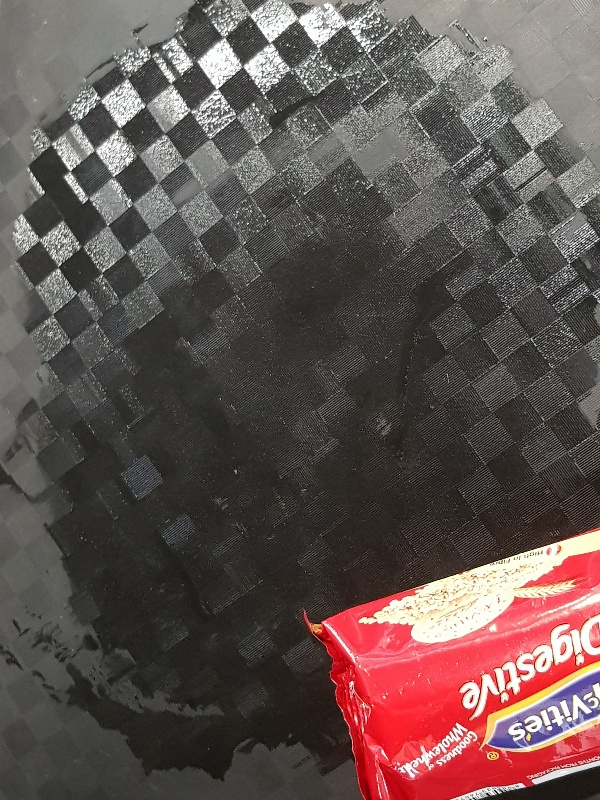Mcvitie's Digestive: (301, 524, 596, 800)
